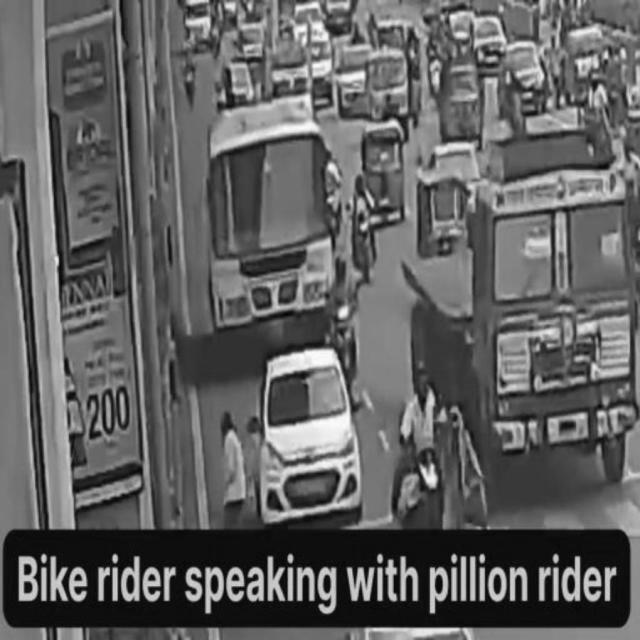accident: (399, 371, 487, 537)
person: (217, 400, 249, 532)
vehicle: (465, 173, 627, 451), (207, 122, 333, 343), (261, 357, 362, 525), (361, 126, 407, 222), (332, 246, 360, 400), (352, 173, 372, 265)
